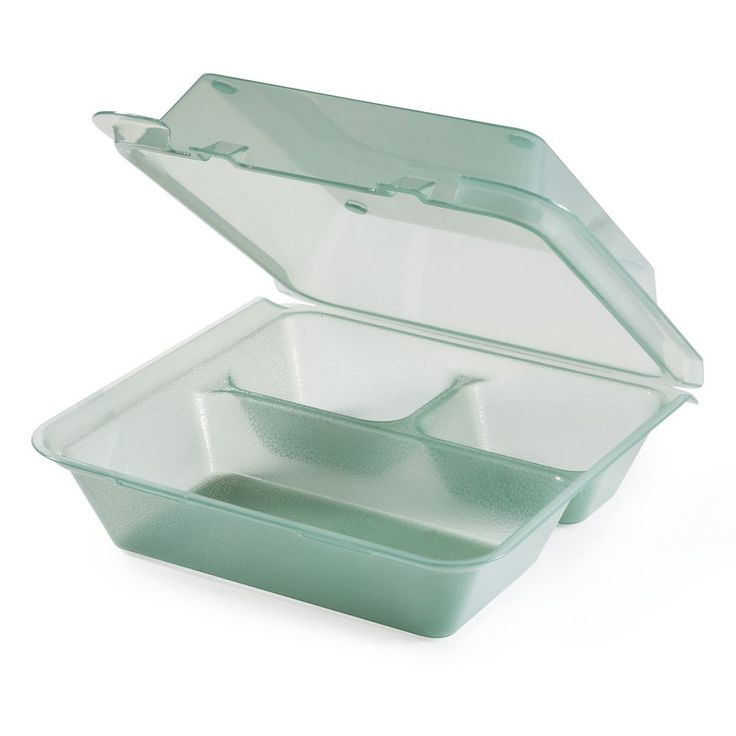styrofoam: (30, 75, 705, 645)
